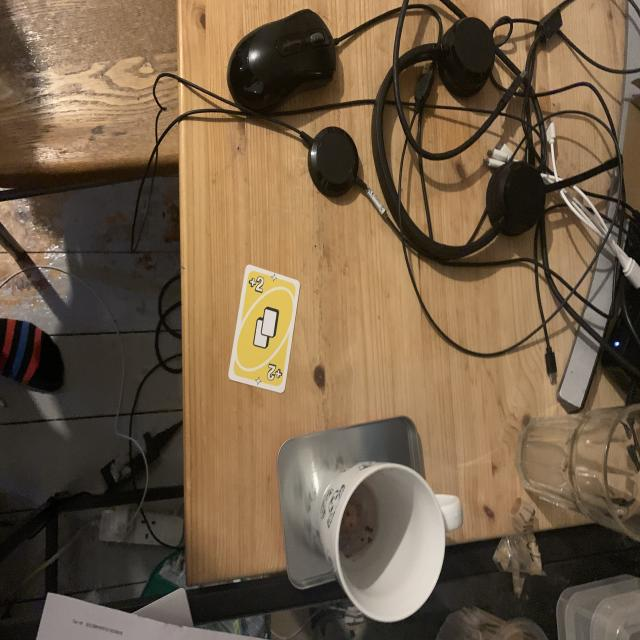lyellow-20: (248, 271, 266, 298)
